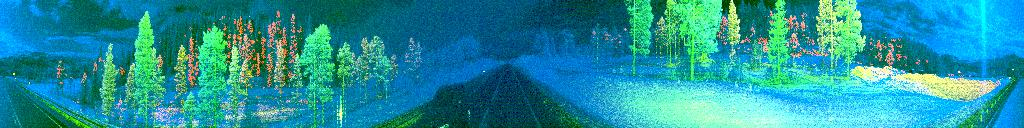pole: (338, 94, 345, 128), (335, 97, 339, 128)
